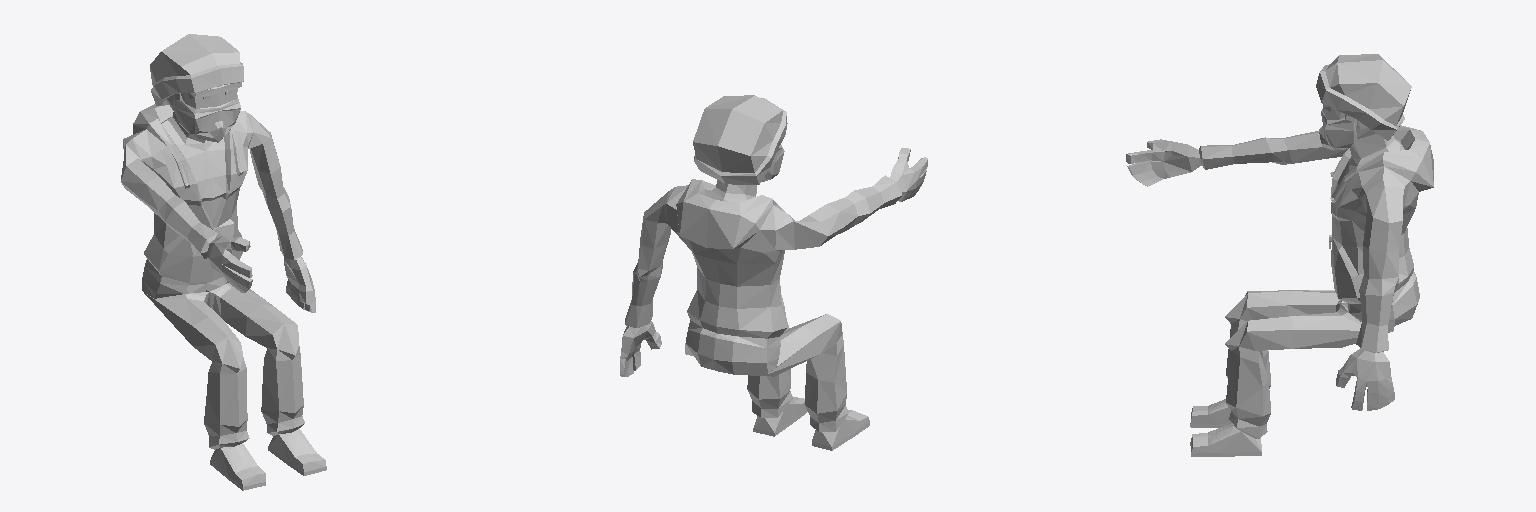
The model's file is man_hoodie_sitting_ready.obj.
3 renders of one model, left to right at view 1: azimuth 30°, elevation 25°; view 2: azimuth 150°, elevation 25°; view 3: azimuth 270°, elevation 25°, orthographic.
Visible parts, largest first — view 1: Character_Male_Hoodie_Mesh.001; view 2: Character_Male_Hoodie_Mesh.001; view 3: Character_Male_Hoodie_Mesh.001.
Boxes of the visible parts, box(x1,y1,x2,y2) form: Character_Male_Hoodie_Mesh.001: box(121, 34, 326, 490); Character_Male_Hoodie_Mesh.001: box(620, 95, 927, 450); Character_Male_Hoodie_Mesh.001: box(1126, 54, 1433, 456).
Size of the model in its own units: 0.705 by 1.3 by 0.9622.